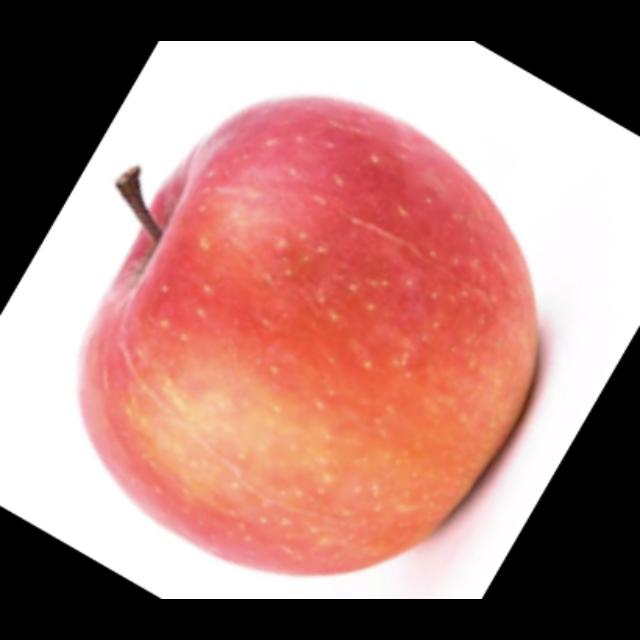Apel Segar: (61, 82, 567, 584)
